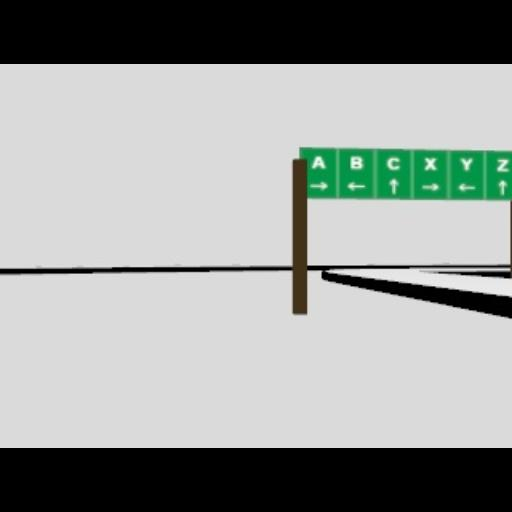A: (310, 156, 326, 168)
B: (349, 155, 363, 169)
C: (386, 155, 400, 169)
Left: (346, 181, 364, 191), (456, 182, 476, 190), (420, 182, 440, 190)
Right: (308, 181, 328, 189)
Straight: (388, 178, 398, 194), (497, 179, 507, 195)
X: (423, 156, 437, 170)
Y: (459, 156, 473, 170)
Z: (496, 158, 508, 172)
